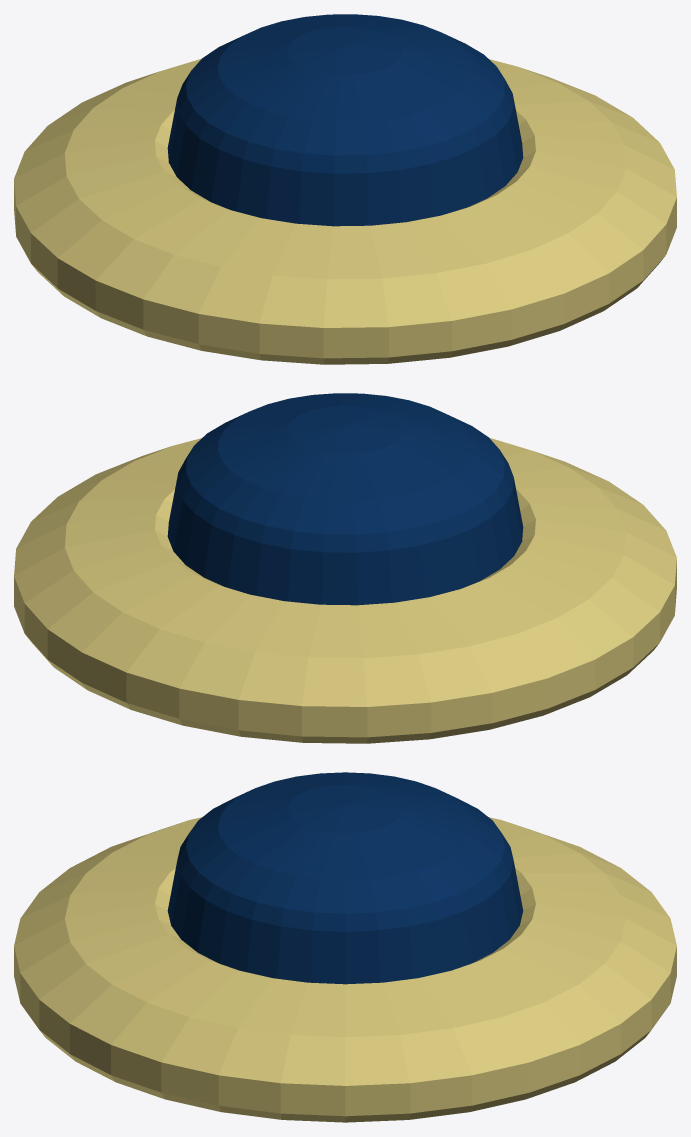
File: Mine.fbx
The picture shows the model from 3 angles, top to bottom: view 1: azimuth 30°, elevation 25°; view 2: azimuth 150°, elevation 25°; view 3: azimuth 270°, elevation 25°; orthographic projection.
Visible parts, largest first — view 1: Cylinder; view 2: Cylinder; view 3: Cylinder.
Boxes of the visible parts, x1=… form: Cylinder: x1=14, y1=14, x2=676, y2=364; Cylinder: x1=14, y1=393, x2=676, y2=743; Cylinder: x1=14, y1=772, x2=676, y2=1122.
Bounding box in the file's own units: 105 × 31.59 × 105.
